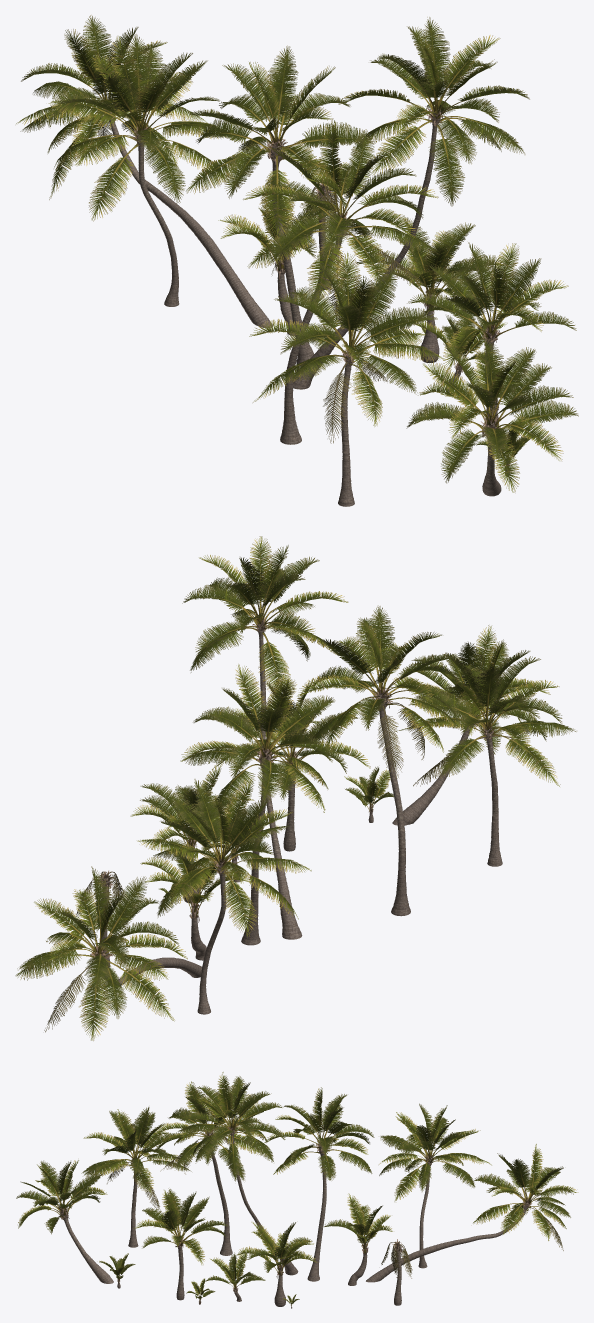
File: palms.glb
The picture shows the model from 3 angles, top to bottom: view 1: azimuth 30°, elevation 25°; view 2: azimuth 150°, elevation 25°; view 3: azimuth 270°, elevation 25°; orthographic projection. The views are drawn at different scales.
Visible parts, largest first — view 1: Palm_ALL_Palm_L_Mat_0, Palm_ALL_PalmD_T_Mat_0, Palm_ALL_Palm_T_Mat_0; view 2: Palm_ALL_Palm_L_Mat_0, Palm_ALL_PalmD_T_Mat_0, Palm_ALL_Palm_T_Mat_0; view 3: Palm_ALL_Palm_L_Mat_0, Palm_ALL_PalmD_T_Mat_0, Palm_ALL_Palm_T_Mat_0.
Part boxes in pixels (bbox=[...]): Palm_ALL_Palm_L_Mat_0: bbox=[16, 15, 578, 492]; Palm_ALL_PalmD_T_Mat_0: bbox=[159, 194, 509, 506]; Palm_ALL_Palm_T_Mat_0: bbox=[109, 114, 507, 482]; Palm_ALL_Palm_L_Mat_0: bbox=[15, 536, 576, 1040]; Palm_ALL_PalmD_T_Mat_0: bbox=[103, 787, 502, 1014]; Palm_ALL_Palm_T_Mat_0: bbox=[96, 622, 498, 985]; Palm_ALL_Palm_L_Mat_0: bbox=[16, 1072, 578, 1305]; Palm_ALL_PalmD_T_Mat_0: bbox=[86, 1213, 475, 1308]; Palm_ALL_Palm_T_Mat_0: bbox=[61, 1128, 528, 1299].
Bounding box in the file's own units: 17.48 × 17.31 × 40.42.
3 materials, 3 textured.
